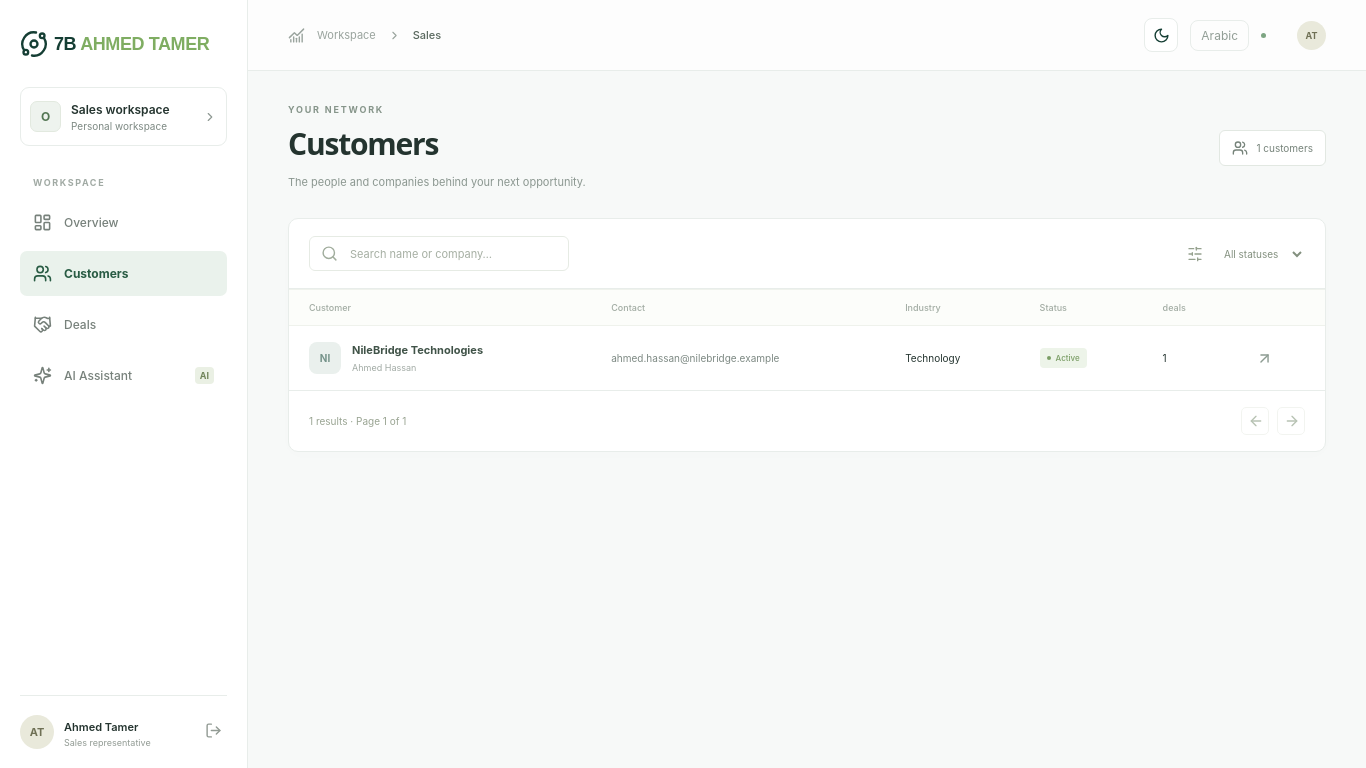
Test case: workspace integration › clears the workspace when a revoked session receives a 401
Check: the link "NileBridge Technologies" is shown, box [352,343,483,357]
Click the link "Deals" at (65, 324), box [33,315,96,334]
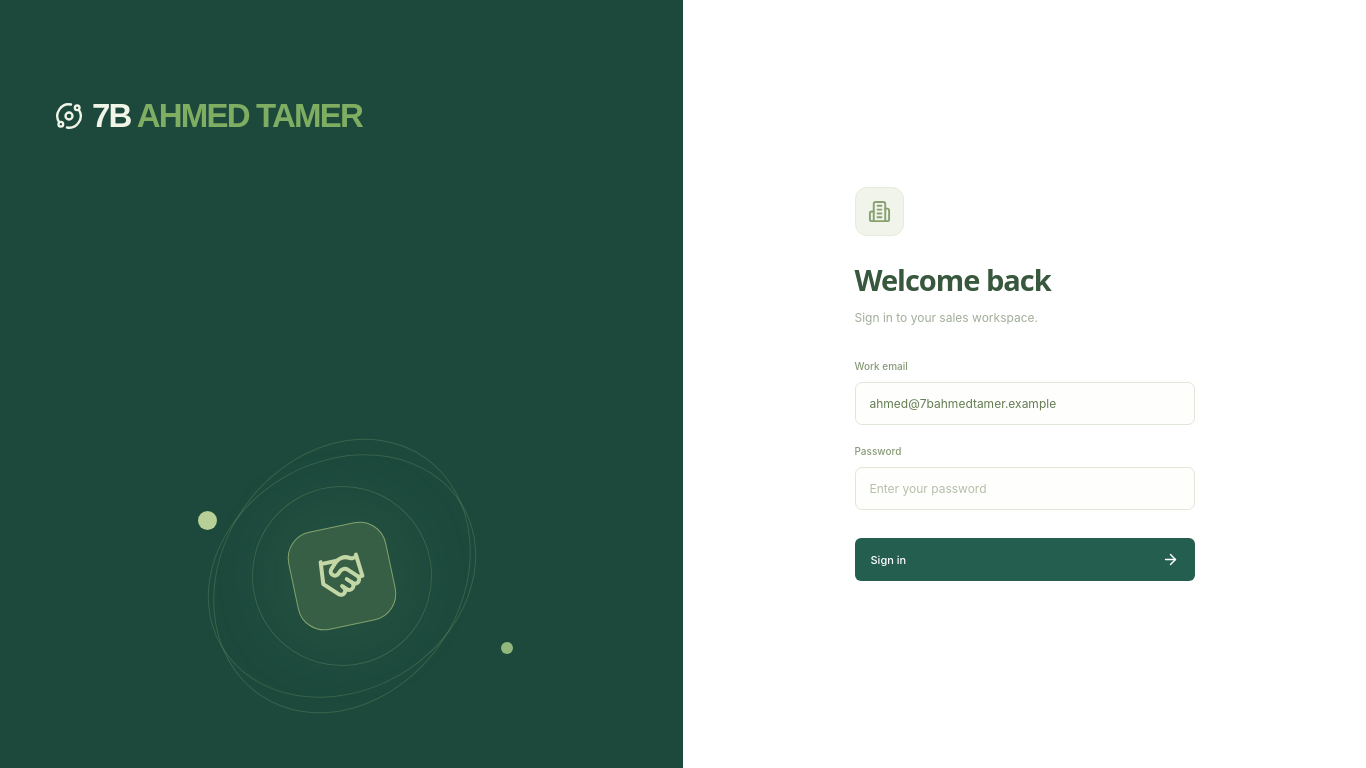
Check: the heading "Welcome back" is shown, box [854,260,1051,299]
Check: the link "NileBridge Technologies" is gone
